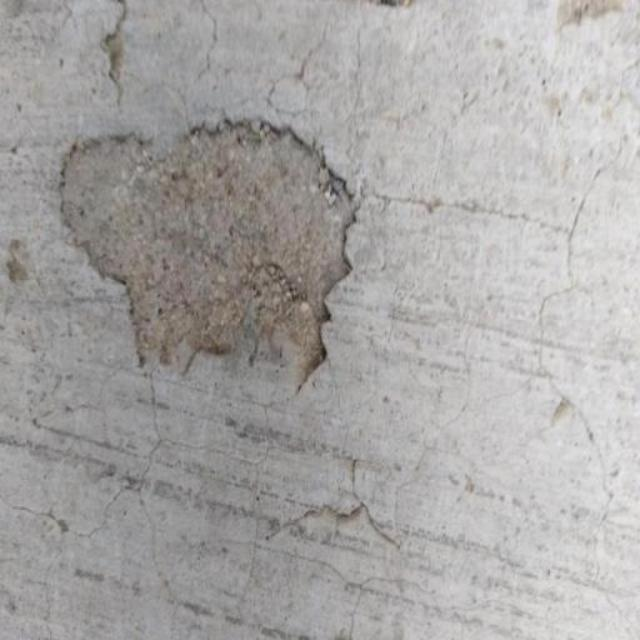D10: (58, 118, 361, 393)
